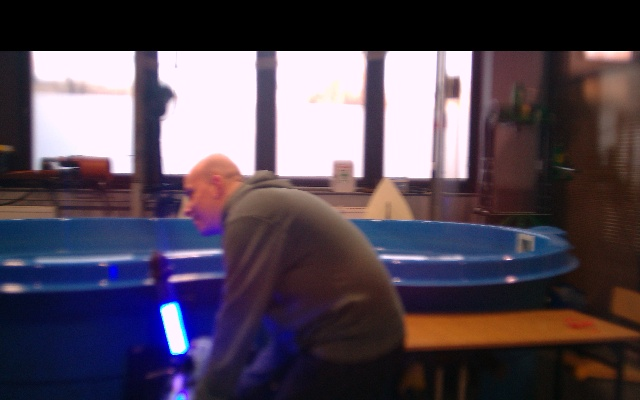blue: (160, 301, 189, 355)
